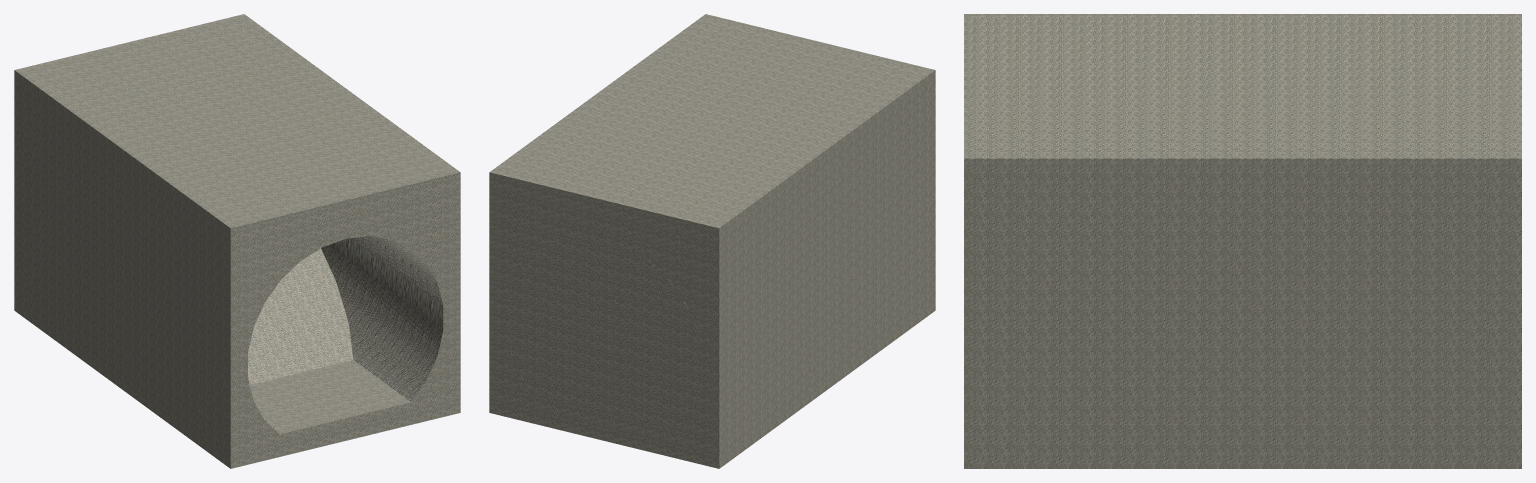
Rendered from ExcavThreeStep4.glb.
The picture shows the model from 3 angles, left to right: view 1: azimuth 30°, elevation 25°; view 2: azimuth 150°, elevation 25°; view 3: azimuth 270°, elevation 25°; orthographic projection. The views are drawn at different scales.
Bounding box in the file's own units: 16 × 16 × 26.08.
1 material, 1 textured.
